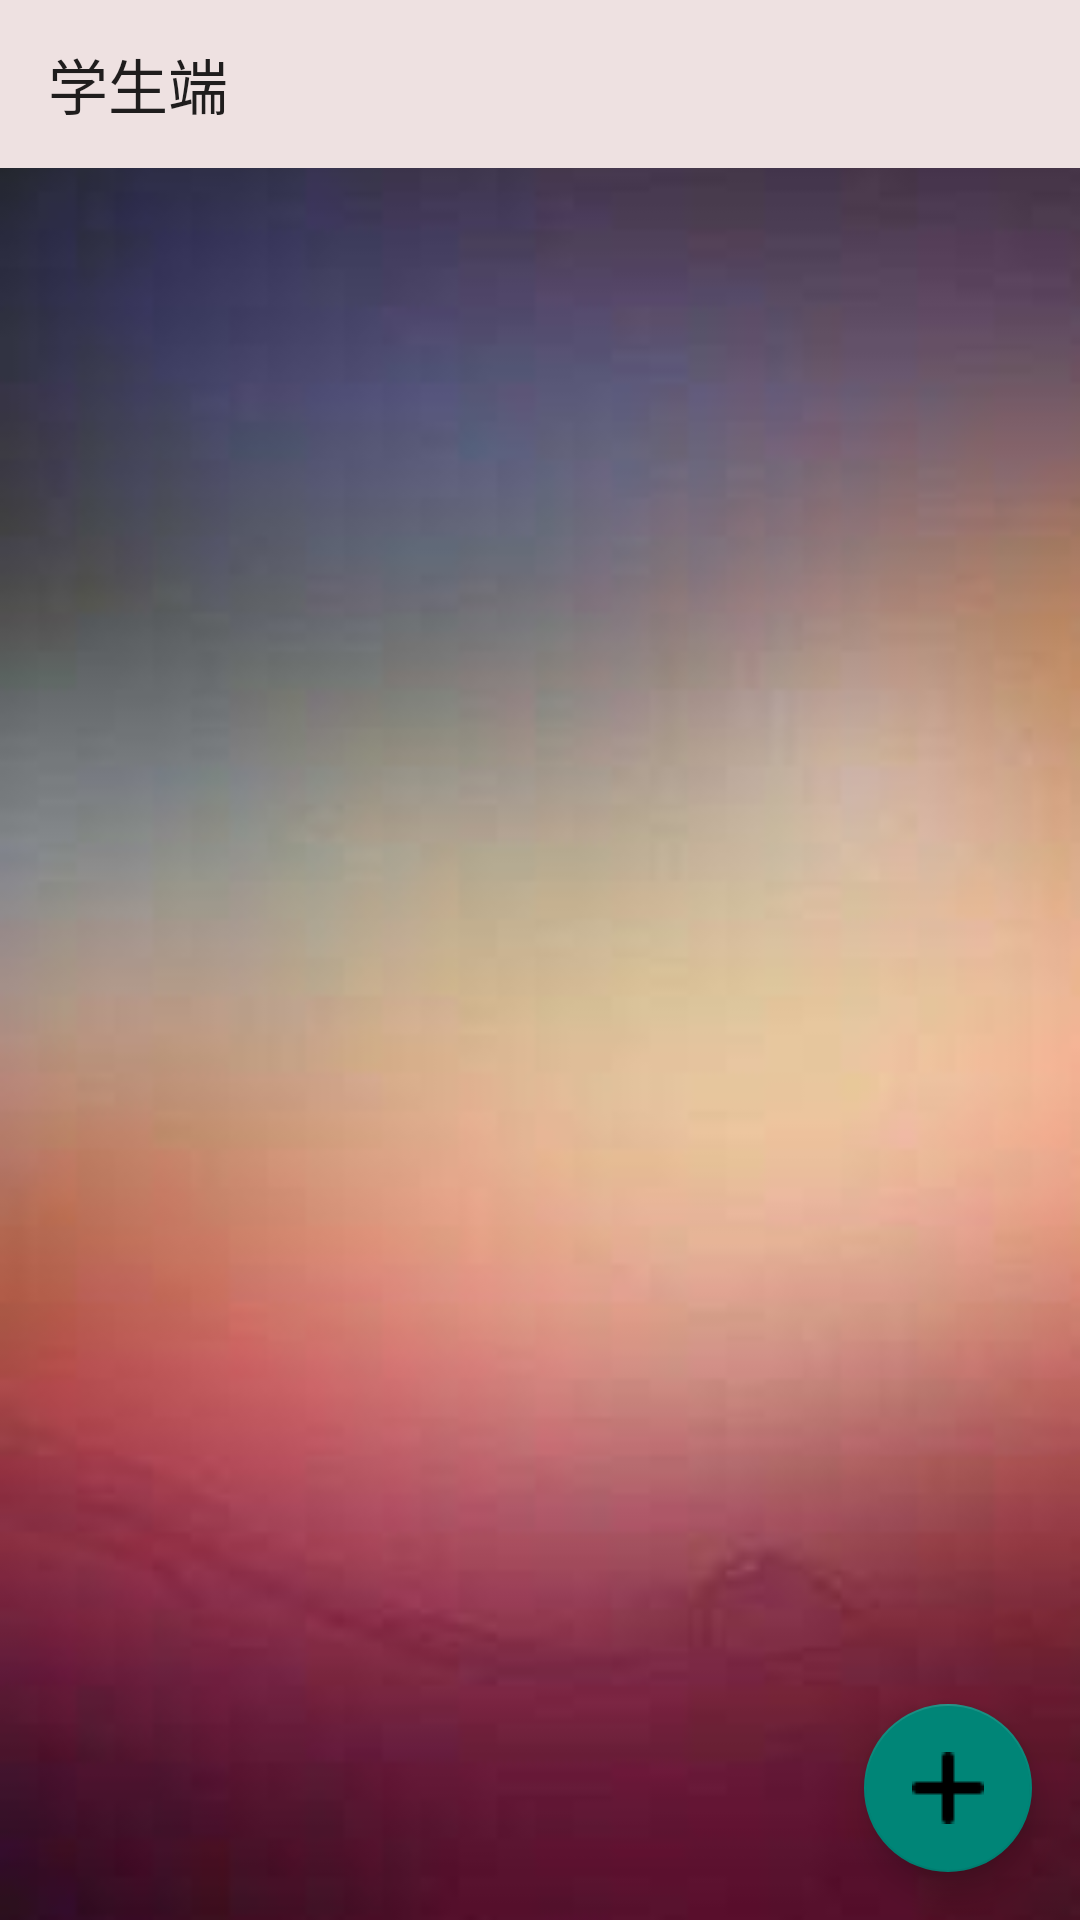

Point at icon controls on the screen. Image size 1080x1920, points as (x,y).
add course: (948,1788)
